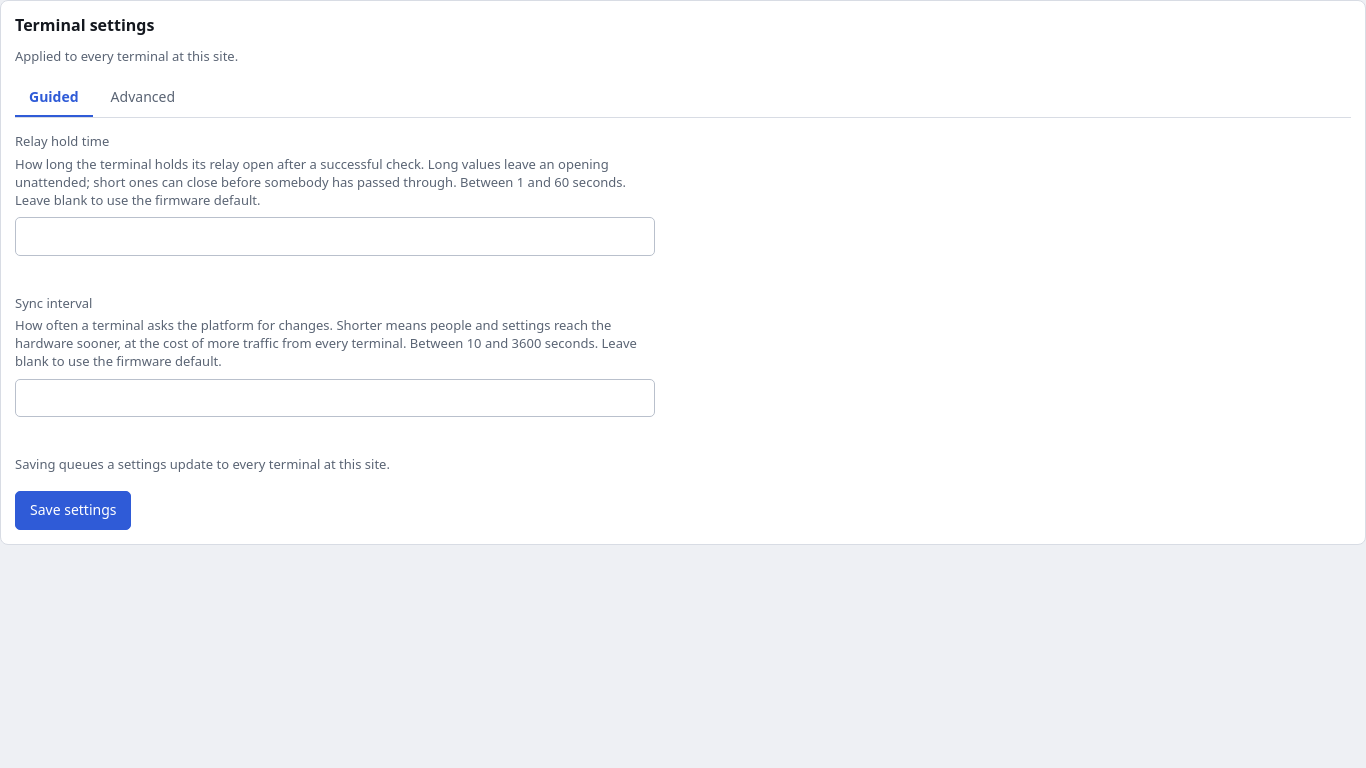
Test: guided settings › SWITCHES EDITORS WITH BUTTONS THAT ANNOUNCE THEIR OWN STATE
Step 1. Click the button "Advanced" → (143, 98), box [97,79,189,118]
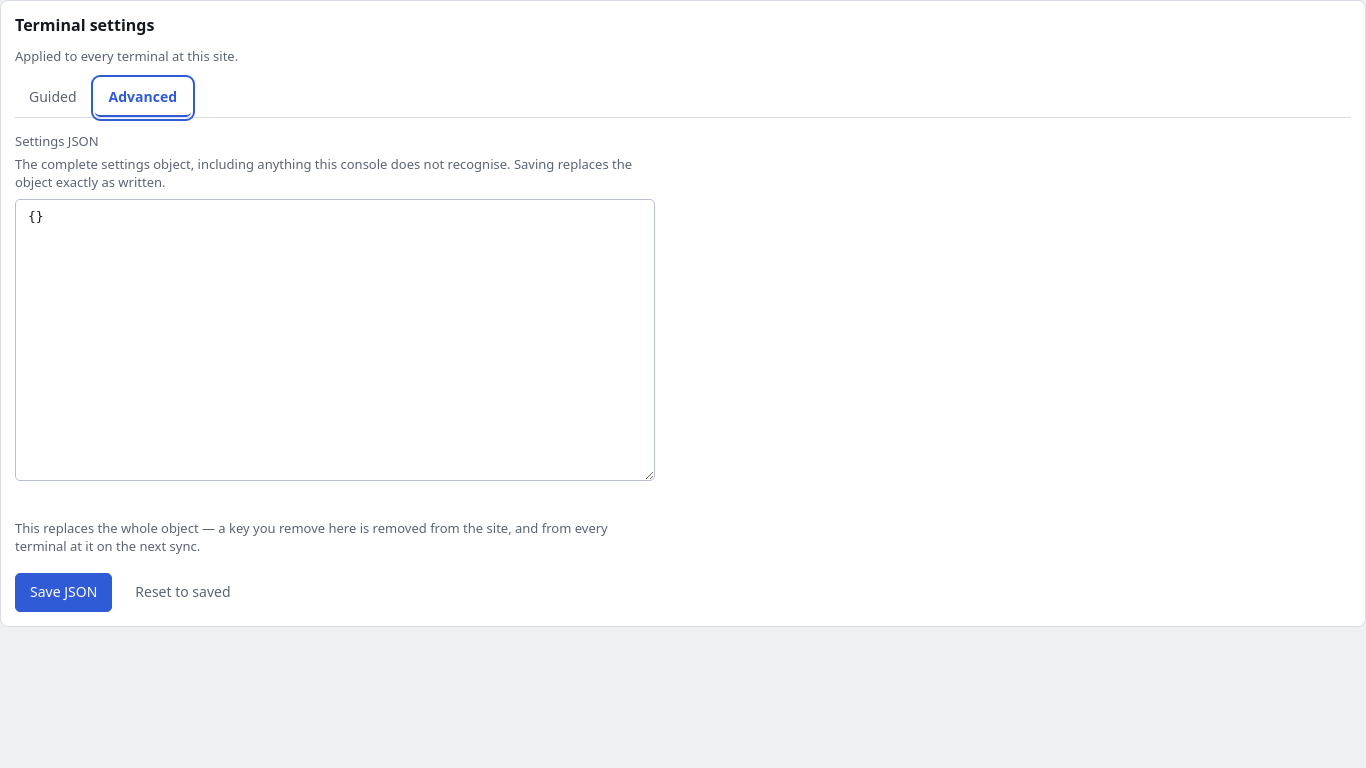
Expected: the text box labelled "Settings JSON" is shown, [15,199,655,481]
